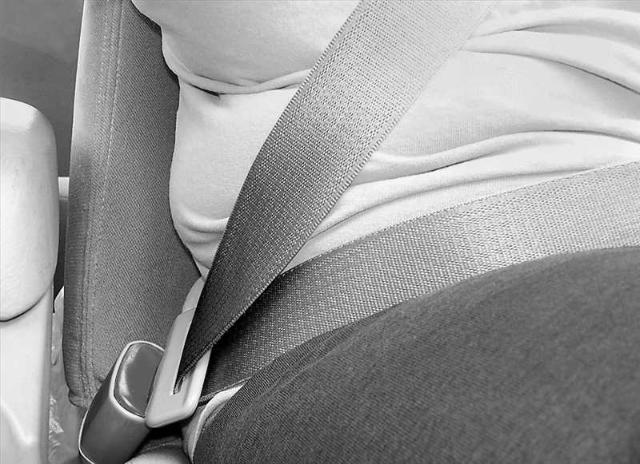Seatbelt: (130, 0, 640, 422)
